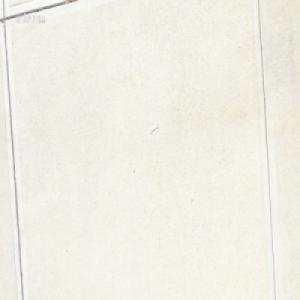Wrench: (149, 122, 158, 133)
